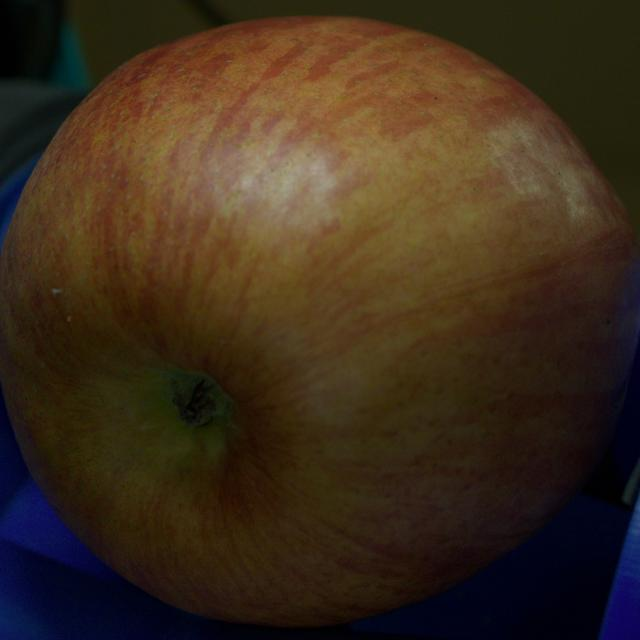apple: (0, 18, 639, 626)
